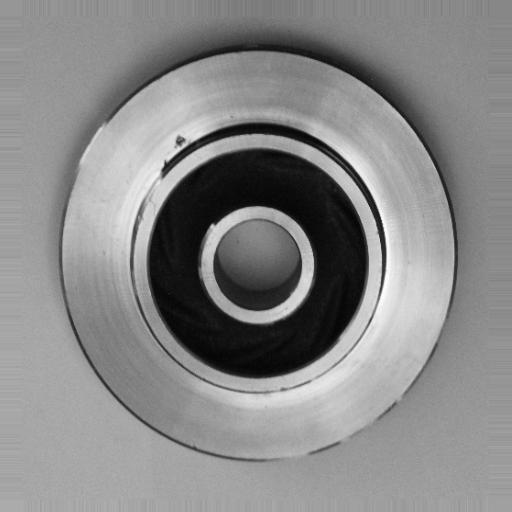crack: (165, 129, 197, 152)
scratch: (137, 164, 171, 221)
unpolished_casting: (58, 48, 463, 466)
